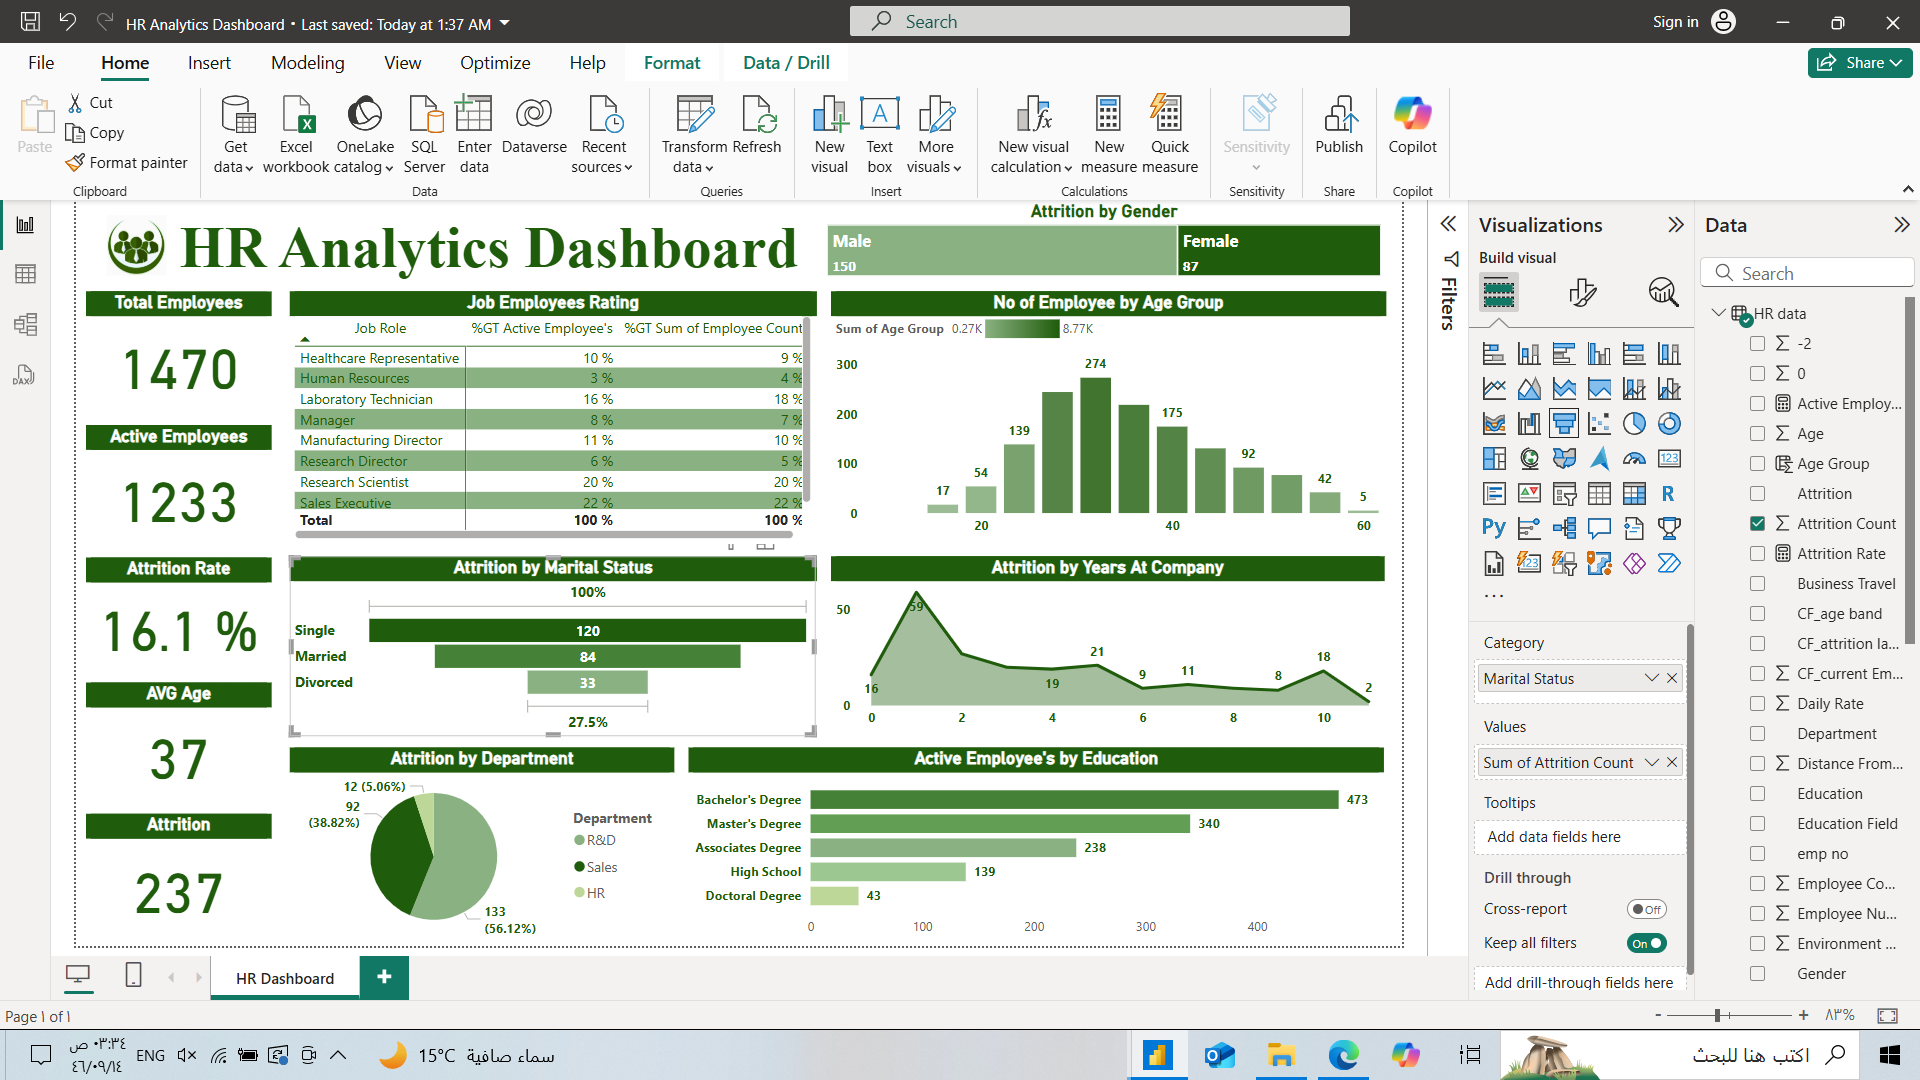

What the dashboard file says about the page in this screenshot:
{"tool":"powerbi","page":{"name":"Page ١","canvas":[1280,720],"ordinal":0},"visuals":[{"type":"card","title":"Total Employees","fields":{"Values":["CountNonNull(HR data.Employee Count)"]},"box":[9.6,88.2,179.2,117.1],"z":0},{"type":"card","title":"Attrition","fields":{"Values":["Sum(HR data.Attrition Count)"]},"box":[9.6,592.6,179.2,119.9],"z":1000},{"type":"card","title":"Attrition Rate","fields":{"Values":["HR data.Attrition Rate"]},"box":[9.6,344.5,179.2,108.9],"z":2000},{"type":"card","title":"AVG Age","fields":{"Values":["Avg(HR data.Age)"]},"box":[9.6,465.1,179.2,115.8],"z":3000},{"type":"card","title":"Active Employees","fields":{"Values":["HR data.Active Employee's"]},"box":[9.6,217.1,179.2,115.8],"z":4000},{"type":"treemap","title":"Attrition by Gender","fields":{"Group":["HR data.Gender"],"Values":["Sum(HR data.Attrition Count)"]},"box":[720,0,544.3,78.6],"z":5000},{"type":"clusteredBarChart","fields":{"Category":["HR data.Education"],"Y":["HR data.Active Employee's"]},"box":[591.4,528.6,671.4,191.4],"z":6000},{"type":"pieChart","title":"Attrition by Department","fields":{"Category":["HR data.Department"],"Y":["Sum(HR data.Attrition Count)"]},"box":[205.7,528.6,371.4,191.4],"z":7000},{"type":"areaChart","title":"Attrition by Years At Company","fields":{"Category":["HR data.Years At Company"],"Y":["Sum(HR data.Attrition Count)"]},"box":[728.6,343.6,534.3,174.3],"z":8000},{"type":"clusteredColumnChart","title":"No of Employee by Age Group","fields":{"Category":["HR data.Age Group"],"Y":["Sum(HR data.Employee Count)"]},"box":[728.6,88.6,535.7,244.3],"z":9000},{"type":"funnel","title":"Attrition by Marital Status","fields":{"Category":["HR data.Marital Status"],"Y":["Sum(HR data.Attrition Count)"]},"box":[205.7,343.6,508.6,174.3],"z":10000},{"type":"textbox","box":[77.1,10,642.9,78.6],"z":11000},{"type":"pivotTable","title":"Job Employees Rating","fields":{"Rows":["HR data.Job Role"],"Values":["Divide(HR data.Active Employee's, ScopedEval(HR data.Active Employee's, []))","Divide(Sum(HR data.Employee Count), ScopedEval(Sum(HR data.Employee Count), []))"]},"box":[205.7,88.6,508.6,244.3],"z":12000},{"type":"image","box":[10,10,97.1,68.6],"z":13000}]}

Visuals, with their boxes on the page's 1280x720 design canvas (x1, y1, x2, y2). These are canvas units, not pixel positions in the 1920x1080 screenshot, which may show the page scaled, cropped or inside an application window:
"Total Employees" card: 10, 88, 189, 205
"Attrition" card: 10, 593, 189, 712
"Attrition Rate" card: 10, 344, 189, 453
"AVG Age" card: 10, 465, 189, 581
"Active Employees" card: 10, 217, 189, 333
"Attrition by Gender" treemap: 720, 0, 1264, 79
clusteredBarChart - HR data.Education x HR data.Active Employee's: 591, 529, 1263, 720
"Attrition by Department" pieChart: 206, 529, 577, 720
"Attrition by Years At Company" areaChart: 729, 344, 1263, 518
"No of Employee by Age Group" clusteredColumnChart: 729, 89, 1264, 333
"Attrition by Marital Status" funnel: 206, 344, 714, 518
textbox: 77, 10, 720, 89
"Job Employees Rating" pivotTable: 206, 89, 714, 333
image: 10, 10, 107, 79
